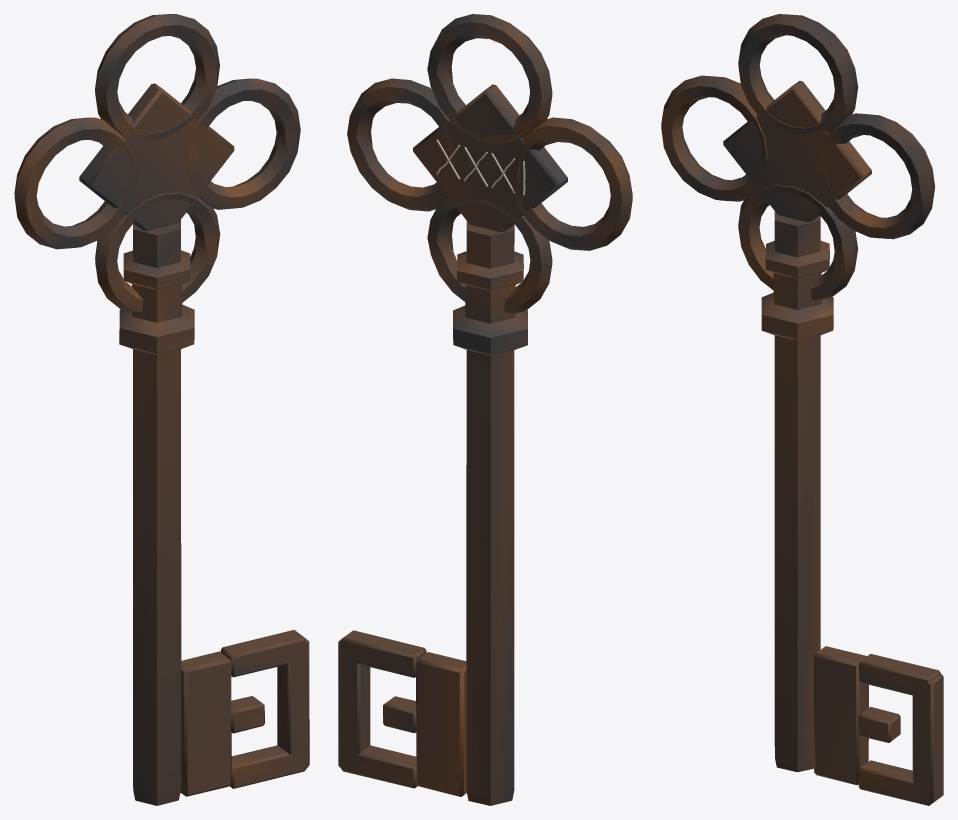
File: iron-ossuary-key.glb
3 renders of one model, left to right at view 1: azimuth 30°, elevation 25°; view 2: azimuth 150°, elevation 25°; view 3: azimuth 330°, elevation 25°, orthographic. The views are drawn at different scales.
Parts seen in each view (by area): view 1: iron-ossuary-key; view 2: iron-ossuary-key; view 3: iron-ossuary-key.
Boxes of the visible parts, x1,y1,x2,y2 form: iron-ossuary-key: (14, 14, 309, 805); iron-ossuary-key: (338, 14, 632, 805); iron-ossuary-key: (661, 14, 943, 805).
Size of the model in its own units: 0.0557 by 0.1447 by 0.0125.
